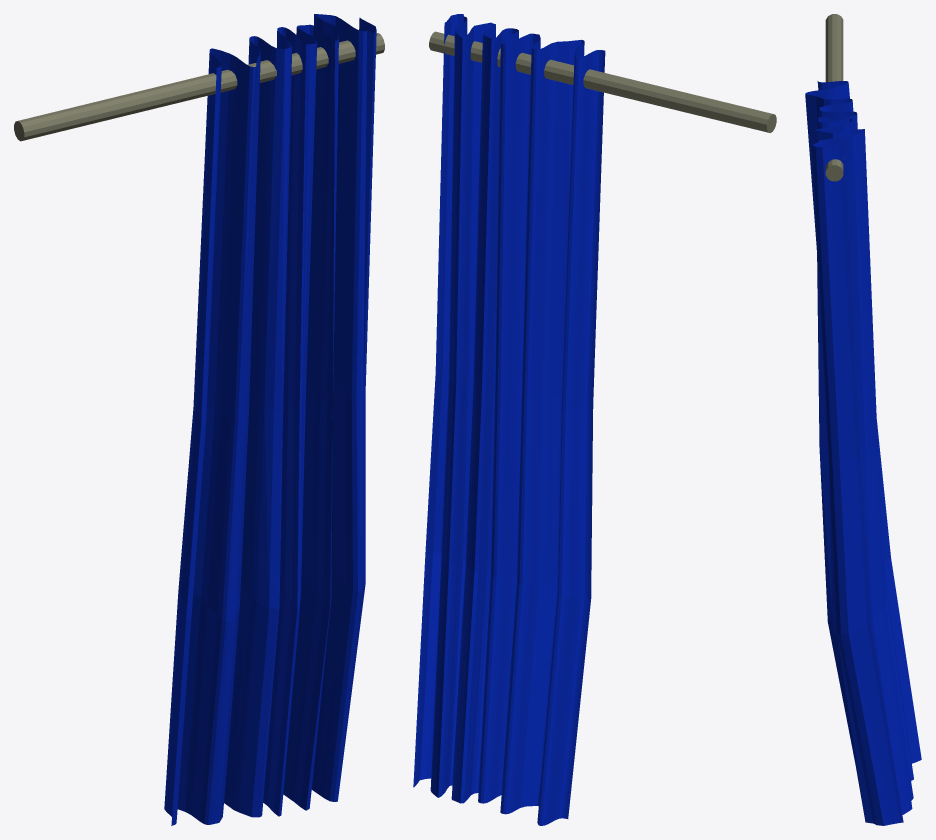
File: showerCurtain.fbx
The picture shows the model from 3 angles, left to right: view 1: azimuth 30°, elevation 25°; view 2: azimuth 150°, elevation 25°; view 3: azimuth 270°, elevation 25°; orthographic projection. The views are drawn at different scales.
Visible parts, largest first — view 1: default; view 2: default; view 3: default.
Boxes of the visible parts, box(x1,y1,x2,y2) form: default: box(14, 14, 384, 825); default: box(413, 14, 776, 825); default: box(805, 14, 921, 825).
Bounding box in the file's own units: 90.27 × 190 × 29.37.
